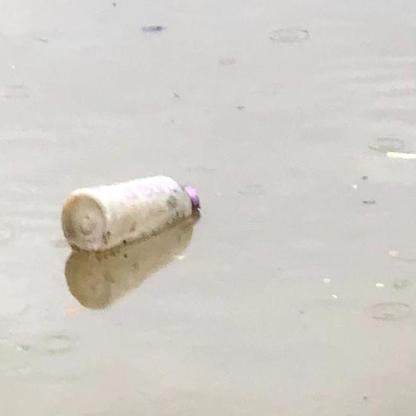plastic bottle: (63, 175, 200, 249)
